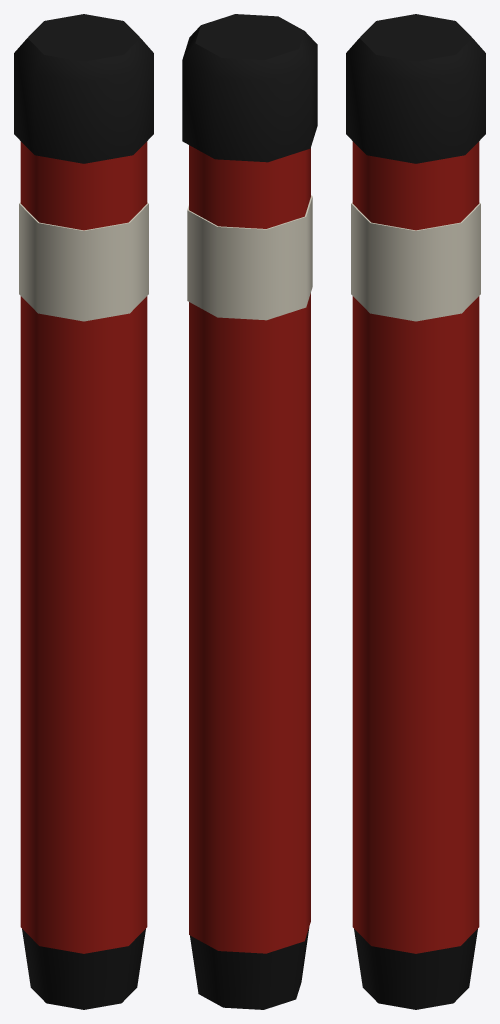
File: flare.glb
3 views of the same model, side by side, from view 1: azimuth 90°, elevation 25°; view 2: azimuth 150°, elevation 25°; view 3: azimuth 270°, elevation 25° (orthographic).
Parts seen in each view (by area): view 1: flare; view 2: flare; view 3: flare.
Boxes of the visible parts, x1=… form: flare: x1=14, y1=14, x2=153, y2=1009; flare: x1=182, y1=14, x2=317, y2=1009; flare: x1=346, y1=14, x2=485, y2=1009.
Size of the model in its own units: 0.042 by 0.315 by 0.042.
